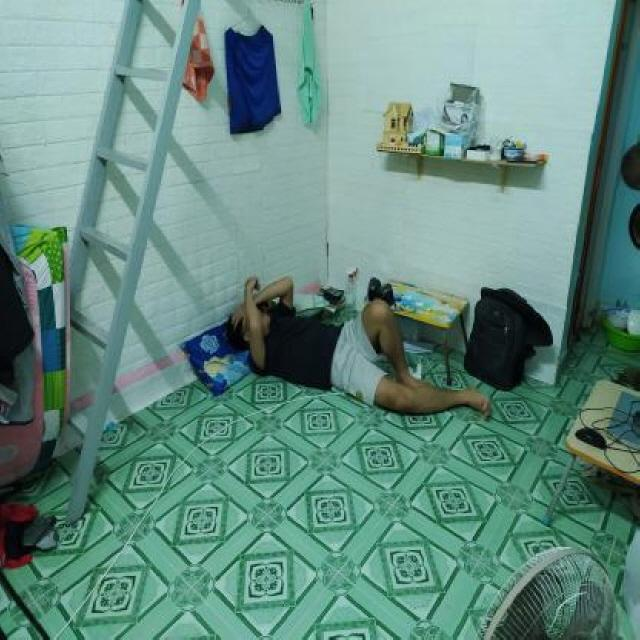Fall: (227, 276, 493, 416)
